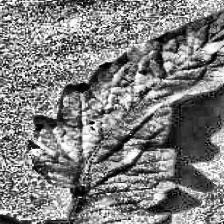leaf mold: (31, 0, 224, 191)
